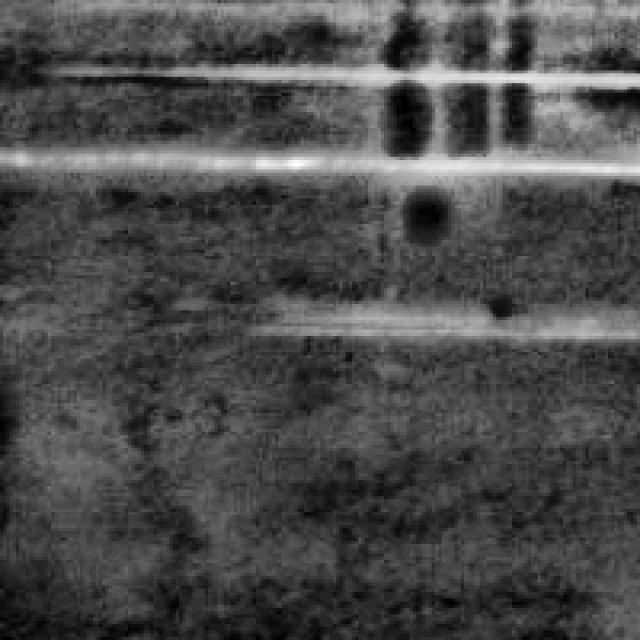Inclusion: (3, 131, 634, 192), (74, 48, 636, 106), (266, 278, 624, 352)
Patches: (374, 6, 554, 176)
